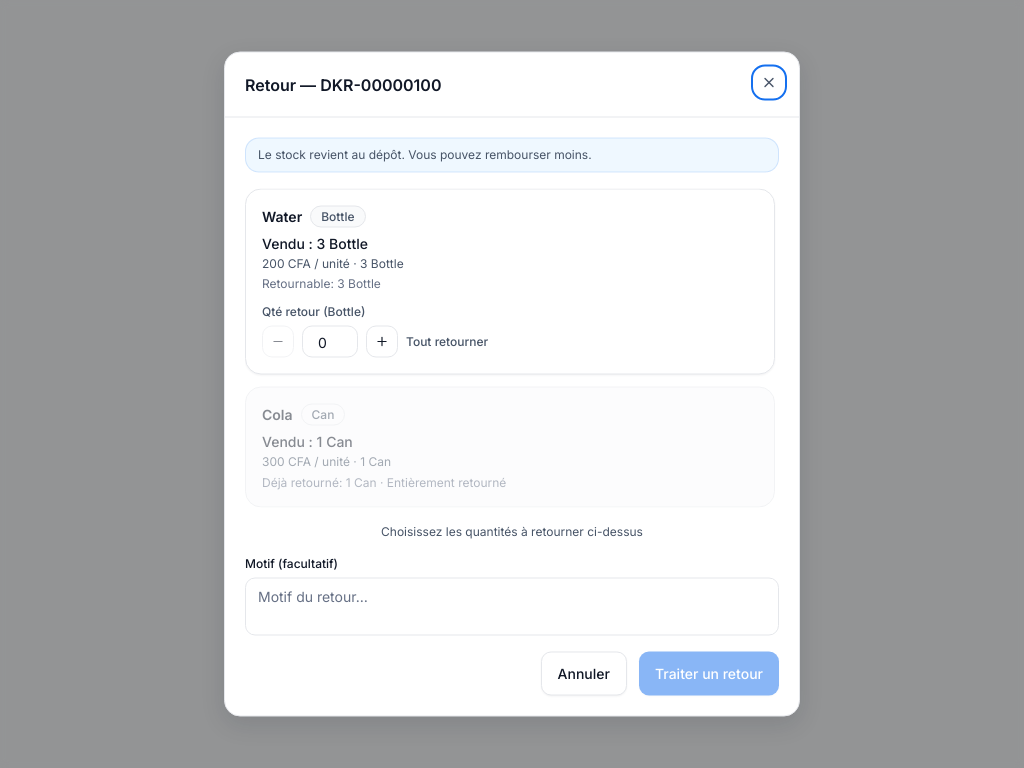
ReturnModal › shows a C1 refund preview with numbered CFA values
Click the button "Tout retourner" at (447, 342), box 406,333 -> 488,350
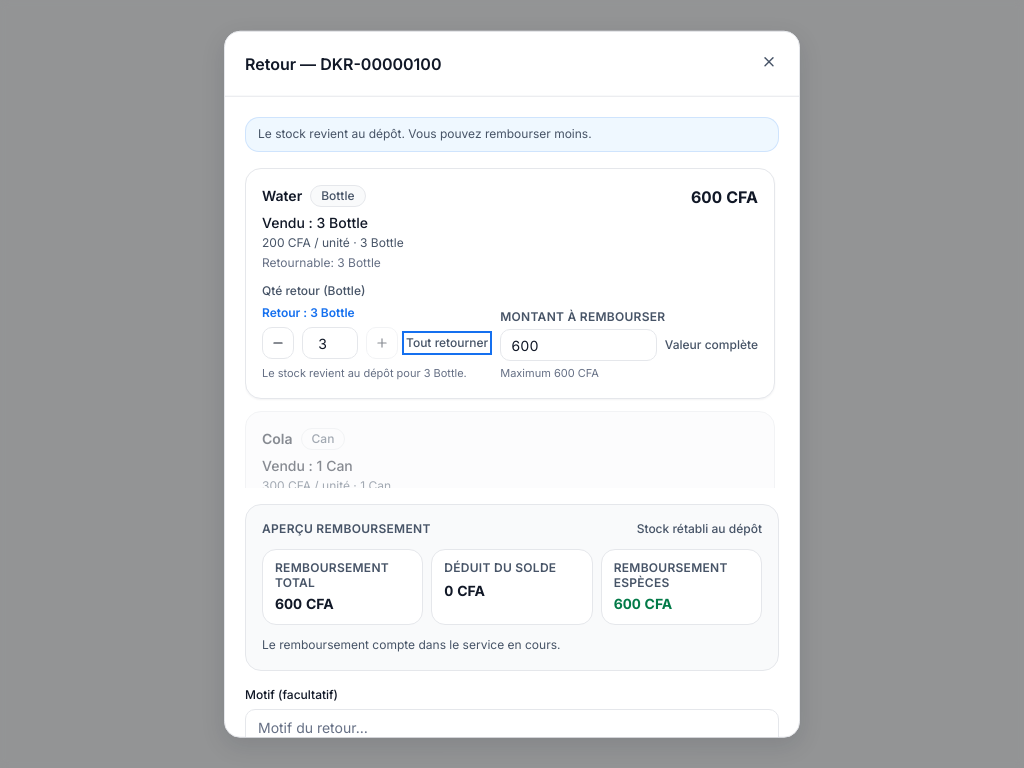
Expected: the text "Aperçu remboursement" is shown, 262,520 -> 431,536
Expected: the text "Remboursement total" is shown, 275,560 -> 389,590
Expected: the text "Déduit du solde" is shown, 444,560 -> 556,575
